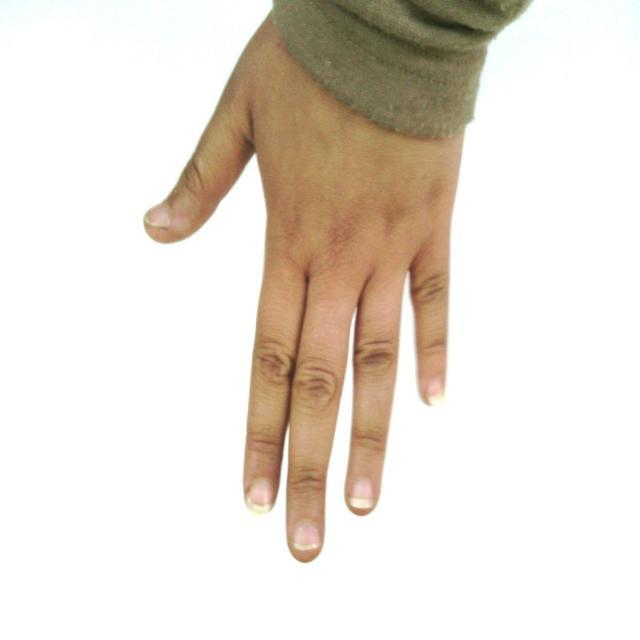Fingernail: (248, 480, 273, 514), (350, 478, 374, 509), (294, 523, 320, 549), (146, 205, 169, 228), (426, 380, 444, 406)
